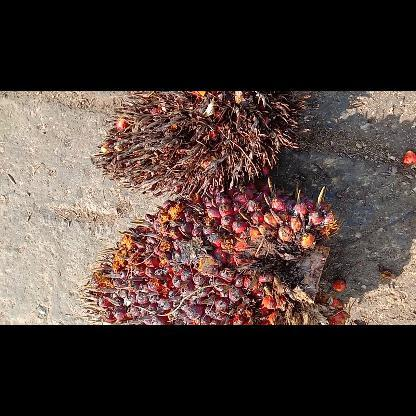TBS masak: (78, 178, 340, 324)
Terlalu masak: (93, 91, 309, 195)
